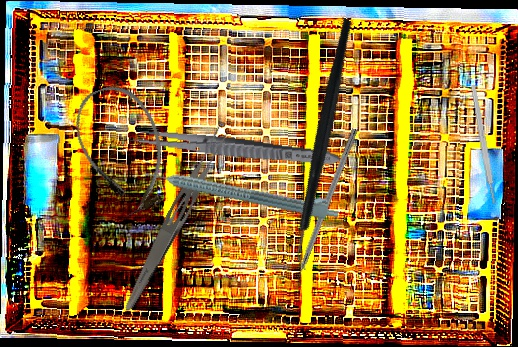Cannula: (63, 75, 183, 224)
Chopper: (216, 15, 437, 275)
Dressing Forceps: (119, 122, 234, 318), (125, 126, 344, 170)
Handpiece: (143, 158, 342, 223)
Hook Surgical: (288, 127, 358, 293)
Scalpel Handle: (469, 84, 498, 205)
